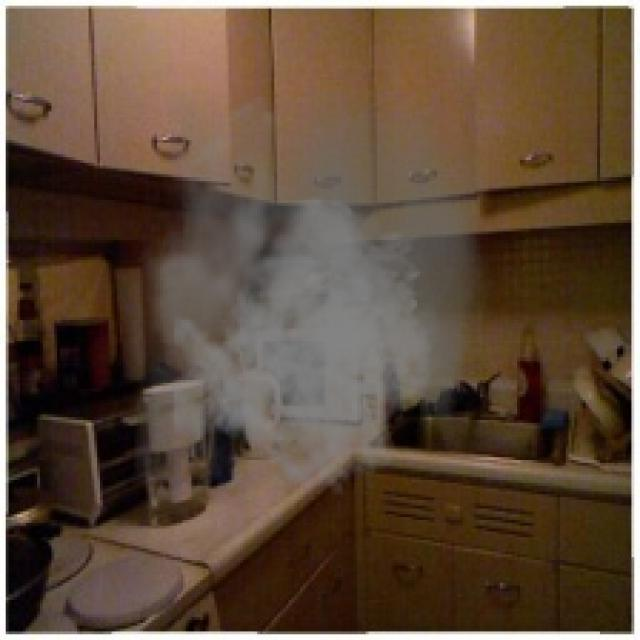Smoke: (134, 92, 489, 497)
